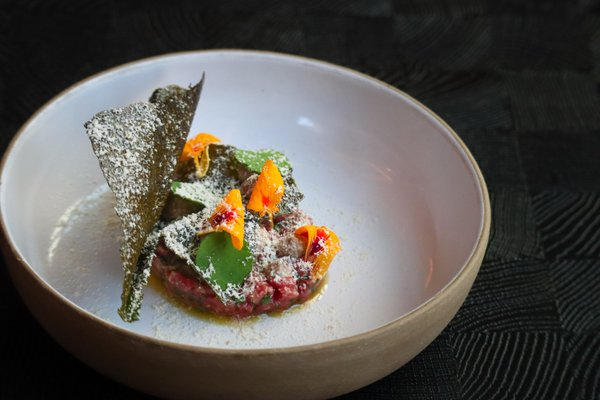sushi: (1, 51, 493, 395)
